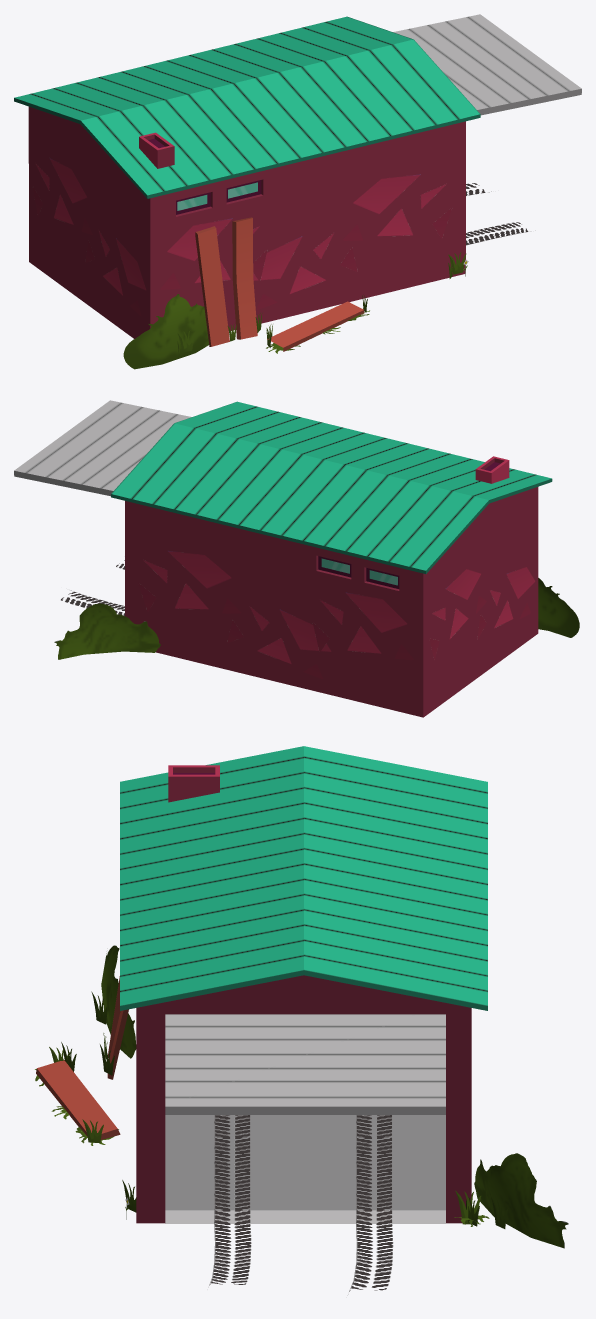
The model's file is GarageAnimated.fbx.
3 views of the same model, one above another, from view 1: azimuth 30°, elevation 25°; view 2: azimuth 150°, elevation 25°; view 3: azimuth 270°, elevation 25° (orthographic). The views are drawn at different scales.
Parts seen in each view (by area): view 1: Garage, Garage.001; view 2: Garage, Garage.001; view 3: Garage, Garage.001.
Part boxes in pixels (x1=…): Garage: x1=14, y1=16, x2=535, y2=369; Garage.001: x1=393, y1=14, x2=581, y2=115; Garage: x1=54, y1=401, x2=579, y2=717; Garage.001: x1=14, y1=400, x2=191, y2=496; Garage: x1=35, y1=746, x2=568, y2=1295; Garage.001: x1=165, y1=1014, x2=445, y2=1114.
Size of the model in its own units: 641 by 247 by 476.
